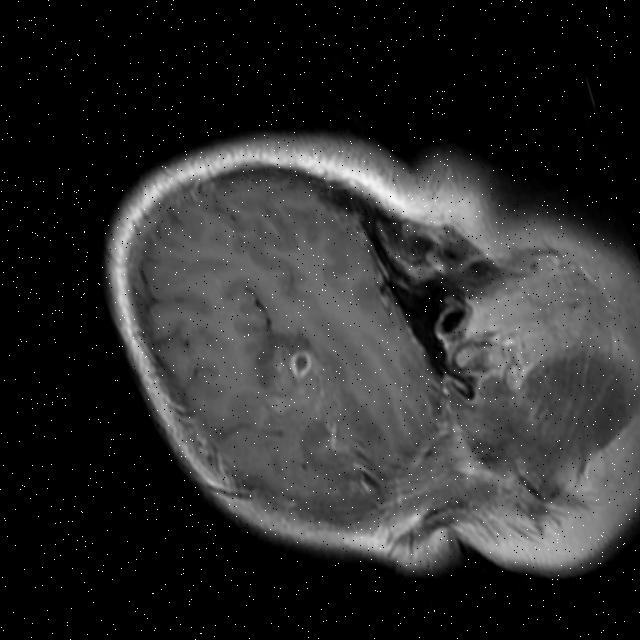Glioma: (244, 325, 345, 462)
